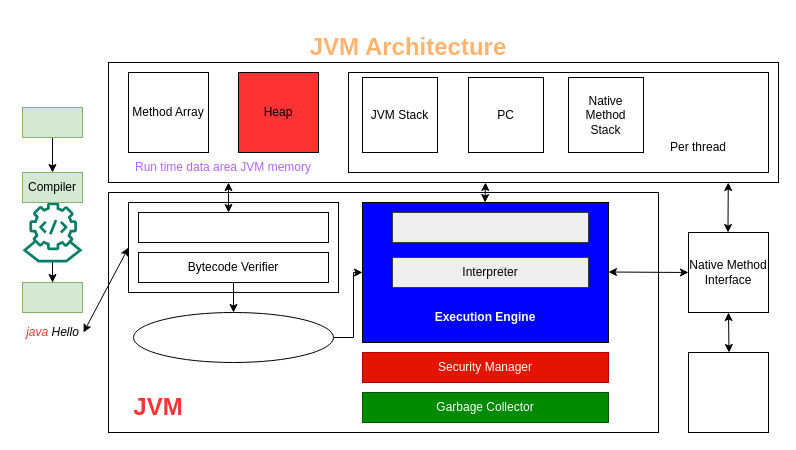
This 796x450 diagram has some shape labels left out. Each missing label, with the centre of its shape:
"Class Loader" goes at pixel 233 227.
"Hello.class" goes at pixel 52 297.
"Hello.java" goes at pixel 52 122.
"Instructions to Execute" goes at pixel 233 337.
"JIT Compiler" goes at pixel 490 227.
"Native Method Libraries" goes at pixel 728 392.
